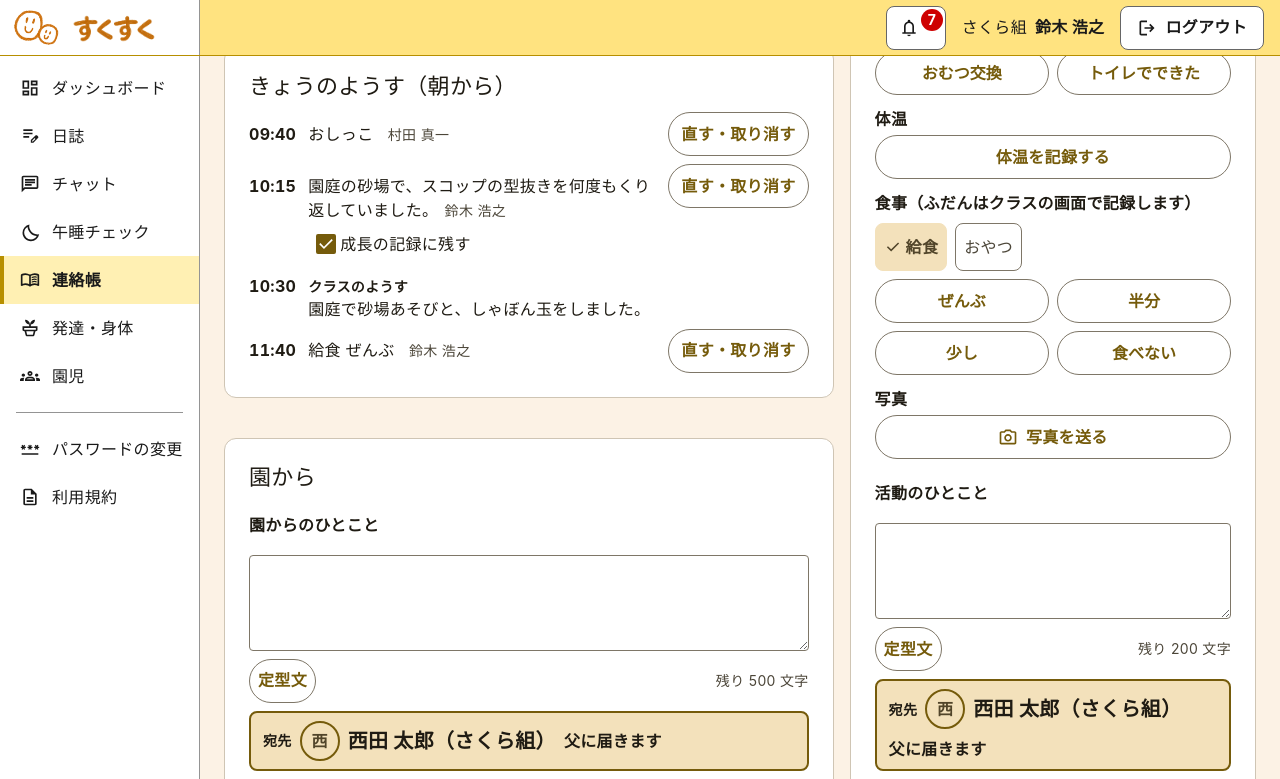
AI の下書き：押したあとのフォーカス（GitHub Issue #213） › 「この文を使う」：候補のカードが消えるので、文を入れた入力欄へ移す
The width and height of the screenshot is (1280, 779).
(page scrolled)
Type "たっくんは砂場で遊んでいました。スコップで型抜きをしました。" into the text box labelled "活動のひとこと" at {"x": 1053, "y": 571}, box [875,523,1231,619]
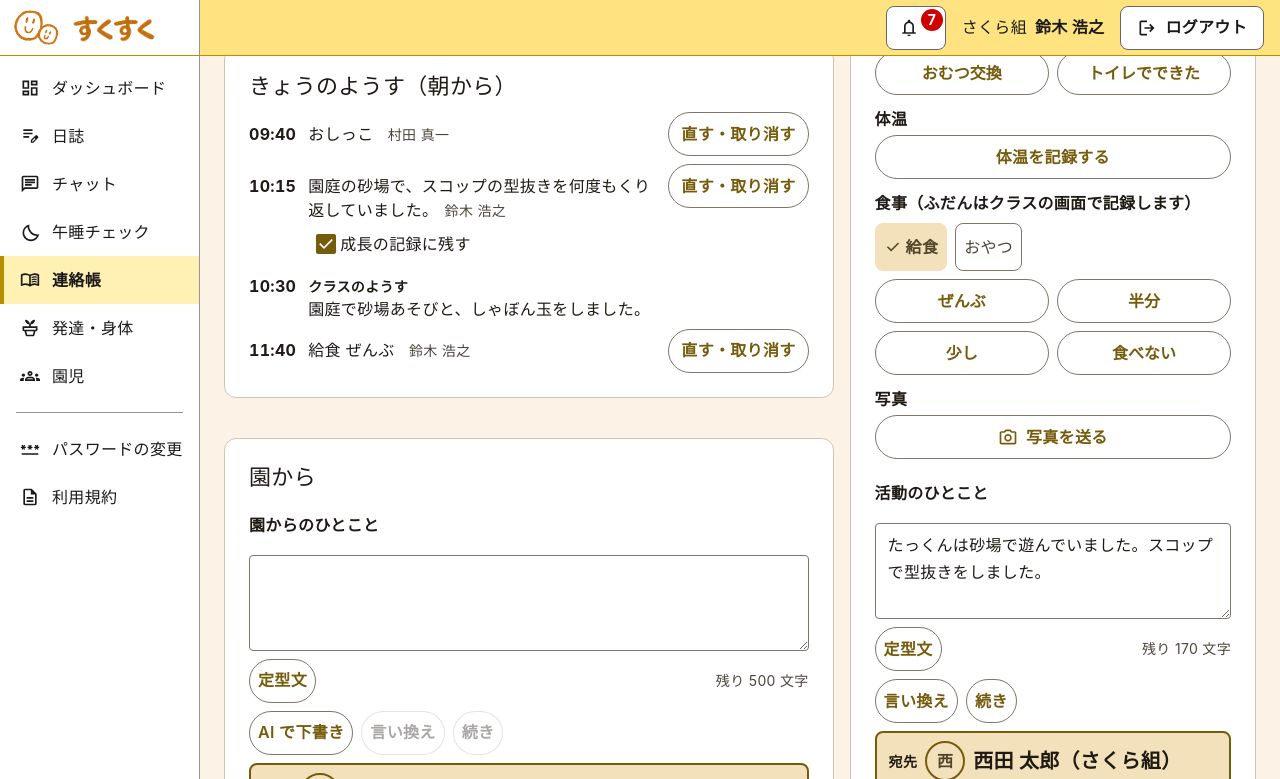
Click the button "言い換え" below "170" at {"x": 916, "y": 701}, box [875,679,958,723]
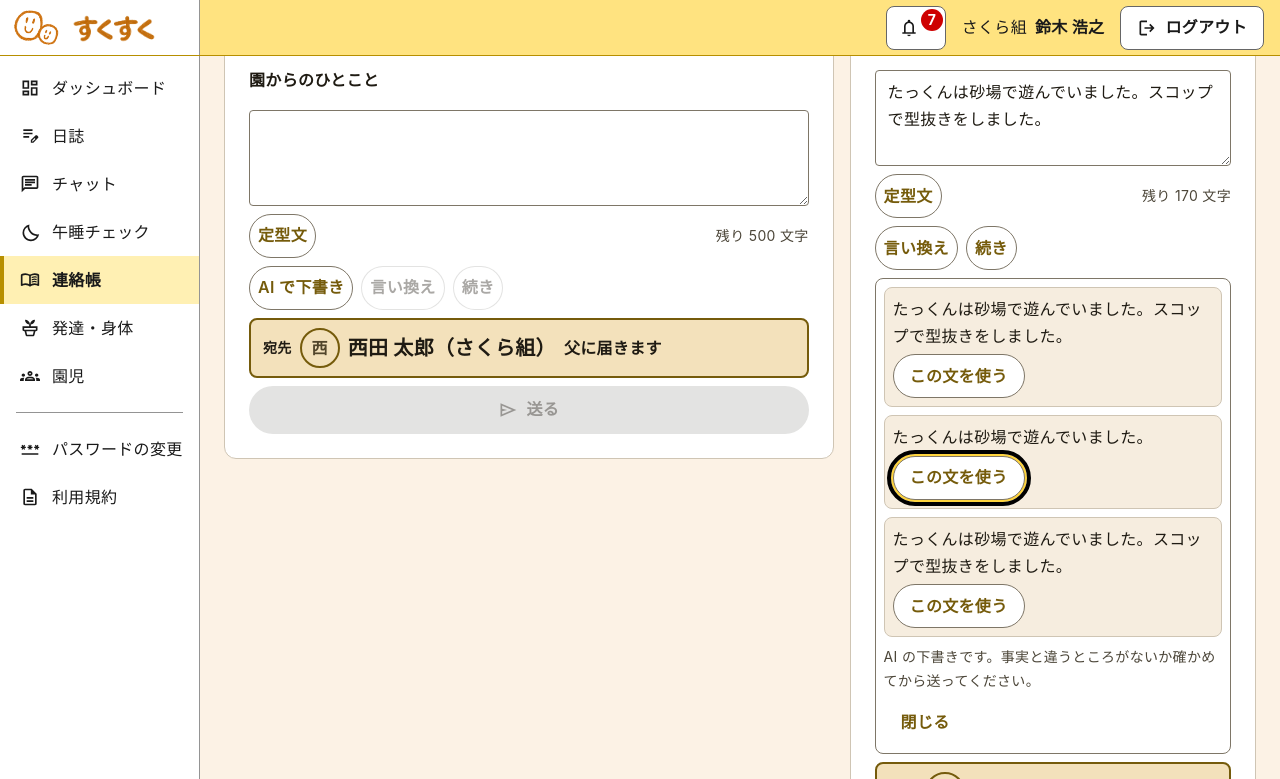
Click the 2nd button "この文を使う" at {"x": 959, "y": 478}, box [893,456,1024,500]
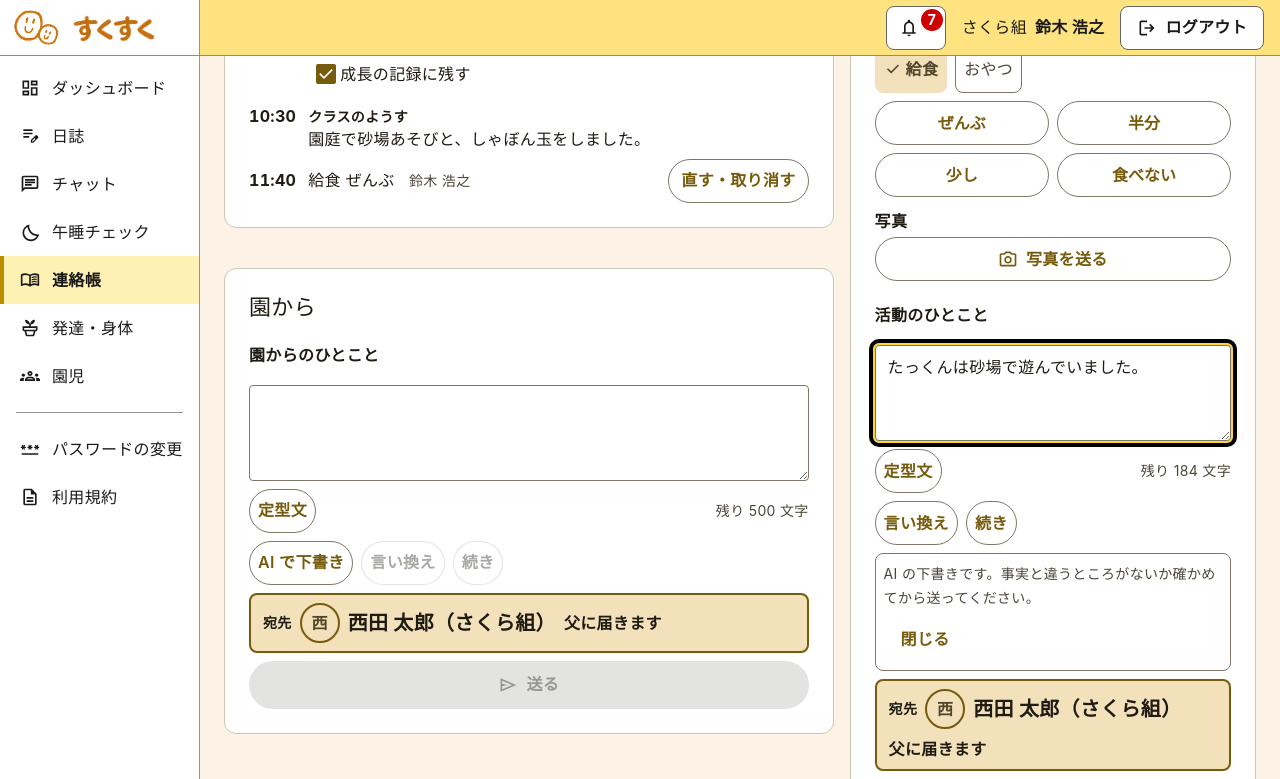
Expected: the text box labelled "活動のひとこと" holds "たっくんは砂場で遊んでいました。", [875,345,1231,441]
Expected: the button "この文を使う" is gone
